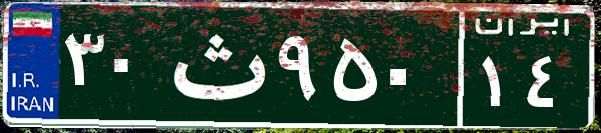0: (385, 28, 445, 110), (110, 28, 158, 105)
1: (475, 38, 525, 113)
3: (57, 26, 110, 107)
4: (525, 38, 570, 115)
5: (330, 28, 385, 110)
9: (273, 28, 330, 110)
ث: (158, 15, 273, 115)
